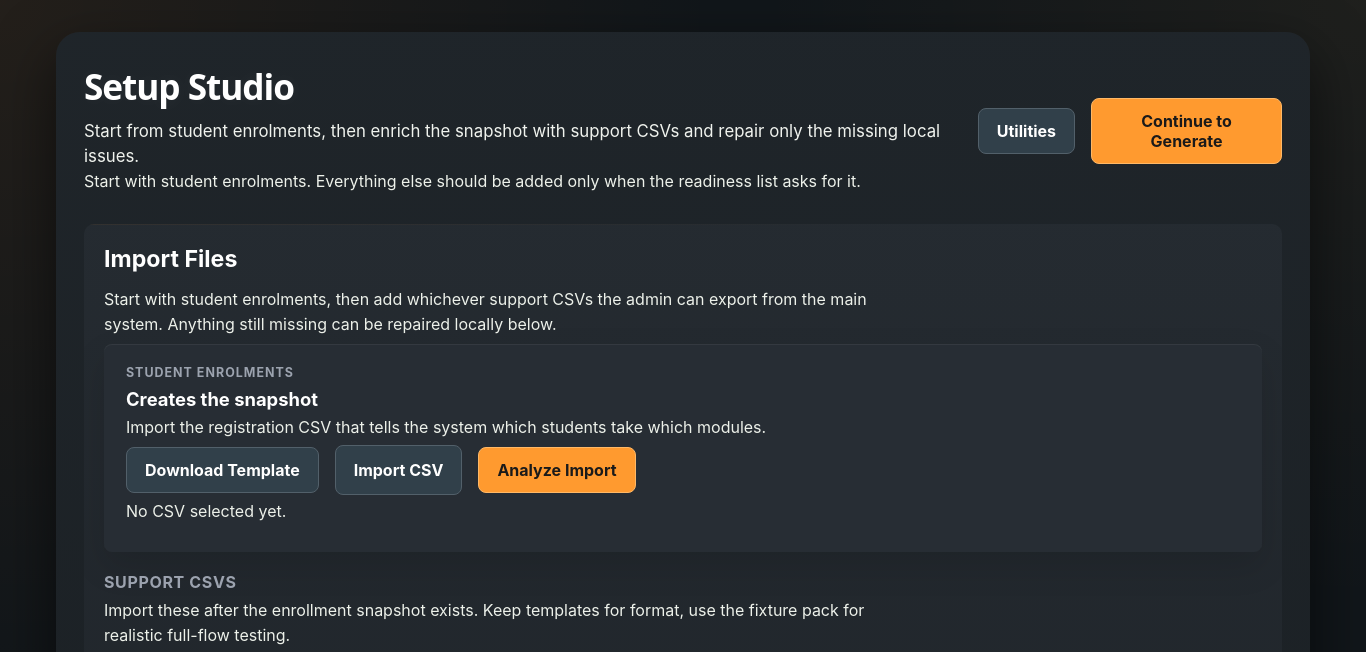
Test: SetupStudio › opens a targeted repair flow for sessions missing lecturer links
The image size is (1366, 652).
What coordinates should you click on to do the following:
click the button "Utilities"
I would click on:
 (1026, 131)
Its box is x1=978 y1=108 x2=1075 y2=154.
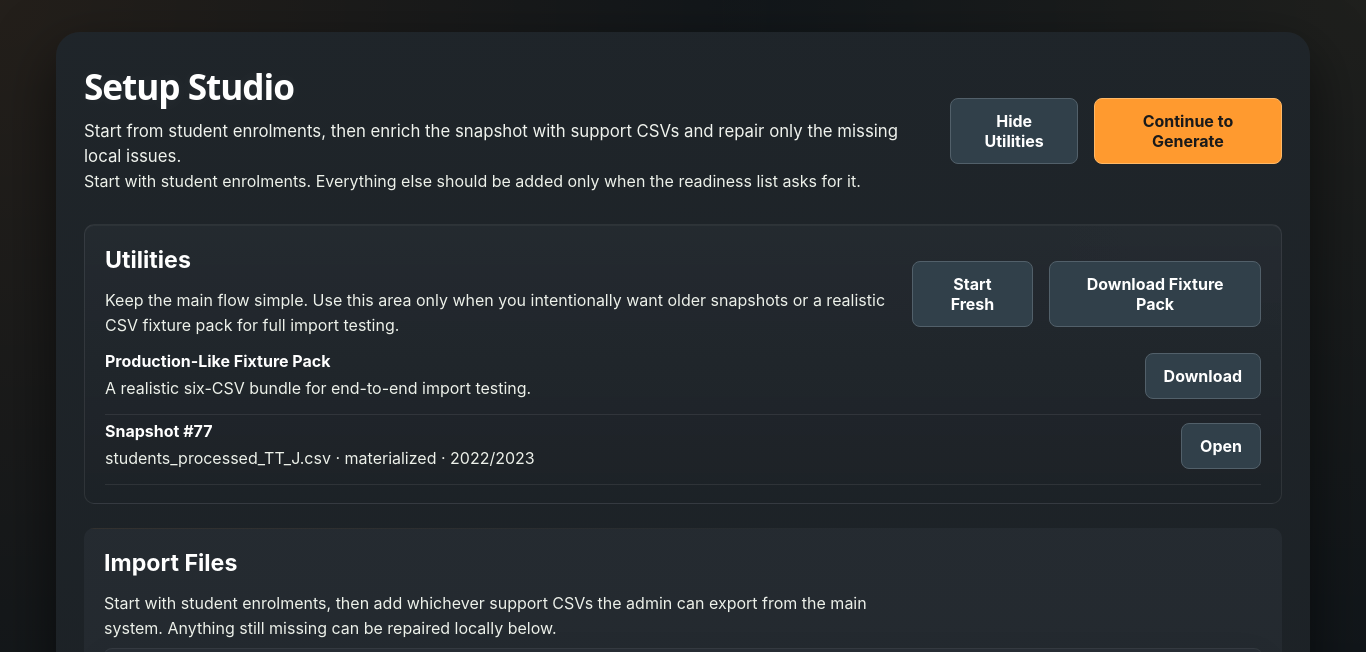
What coordinates should you click on to do the following:
click the button "Open"
I would click on:
 (1221, 446)
Its box is x1=1181 y1=422 x2=1261 y2=468.
(page scrolled)
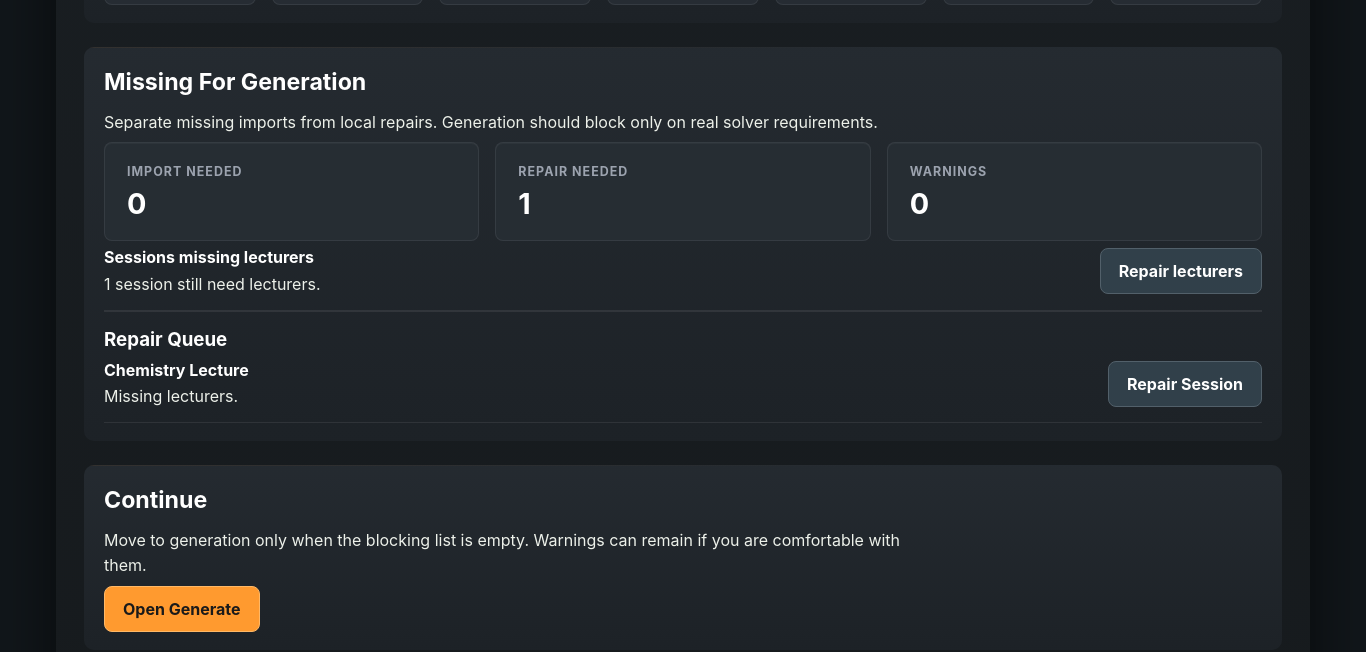
What coordinates should you click on to do the following:
click the button "Repair Session"
I would click on:
 (1185, 384)
Its box is x1=1108 y1=361 x2=1262 y2=407.
(page scrolled)
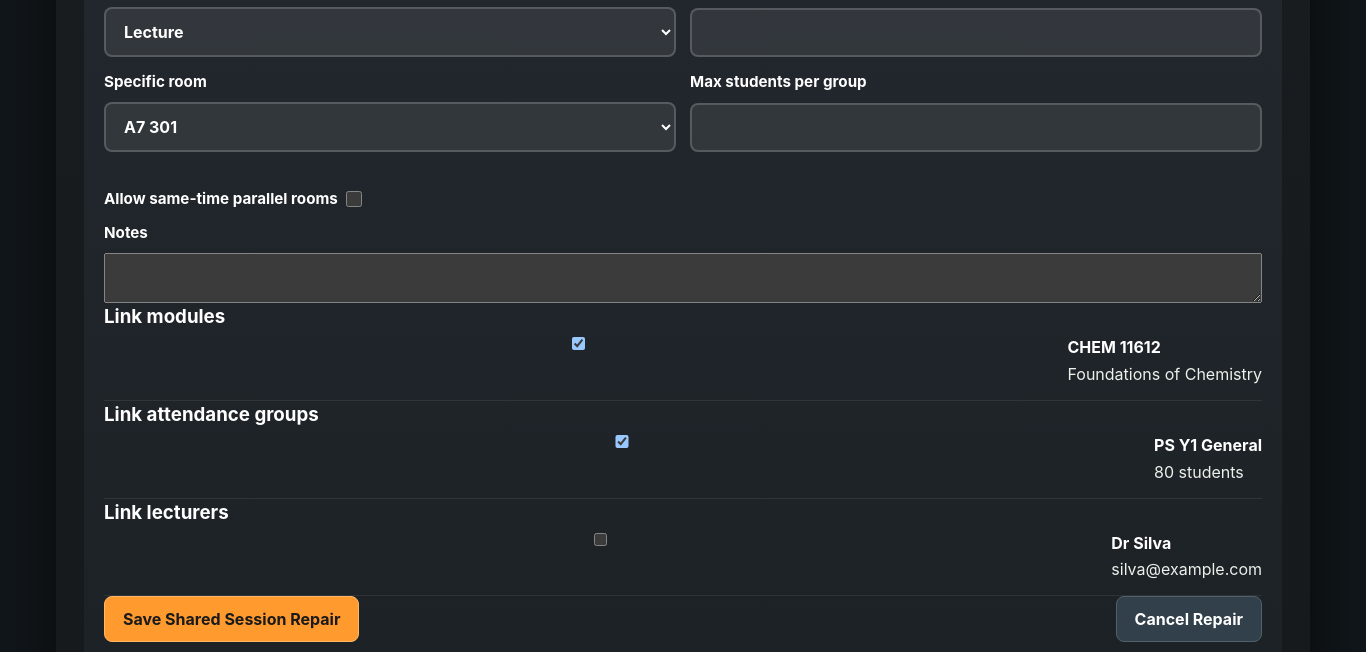
What coordinates should you click on to do the following:
click the text "Dr Silva"
I would click on:
 (1141, 543)
Its box is x1=1111 y1=533 x2=1171 y2=553.
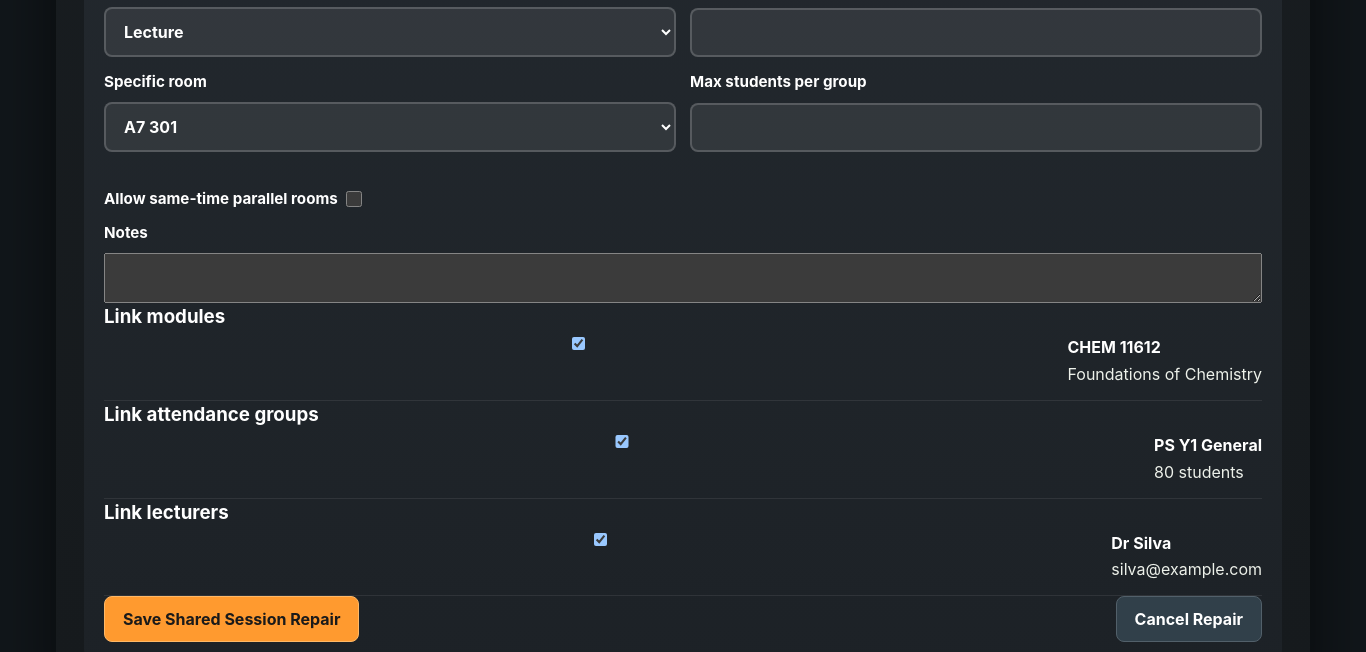
What coordinates should you click on to do the following:
click the button "Save Shared Session Repair"
I would click on:
 (232, 620)
Its box is x1=104 y1=596 x2=359 y2=642.
(page scrolled)
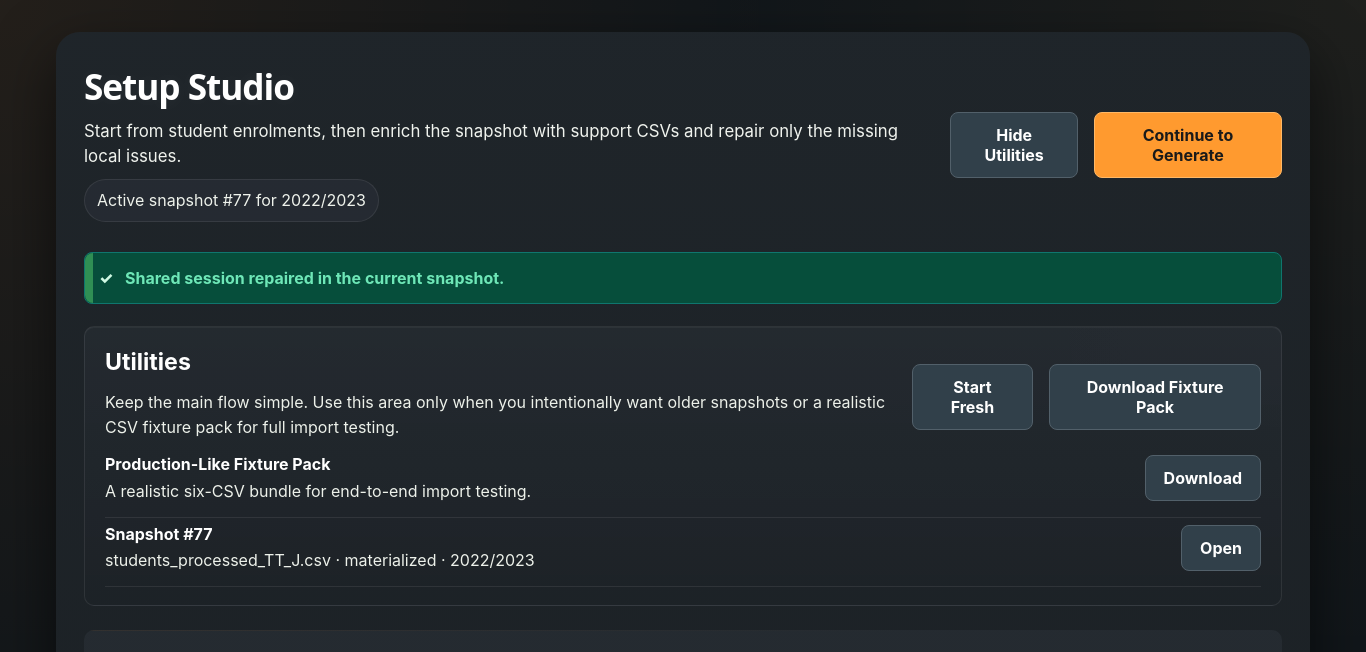
Now the text "Shared session repaired in the current snapshot." is shown, box x1=84 y1=252 x2=1282 y2=304
